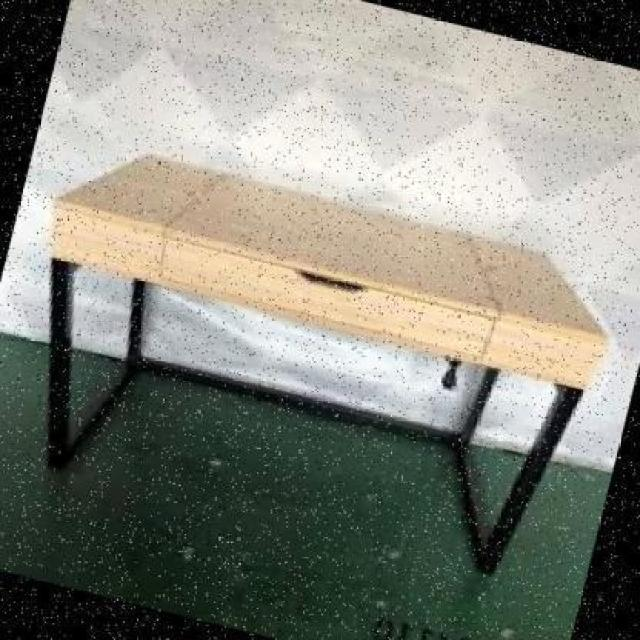tables: (43, 151, 608, 574)
